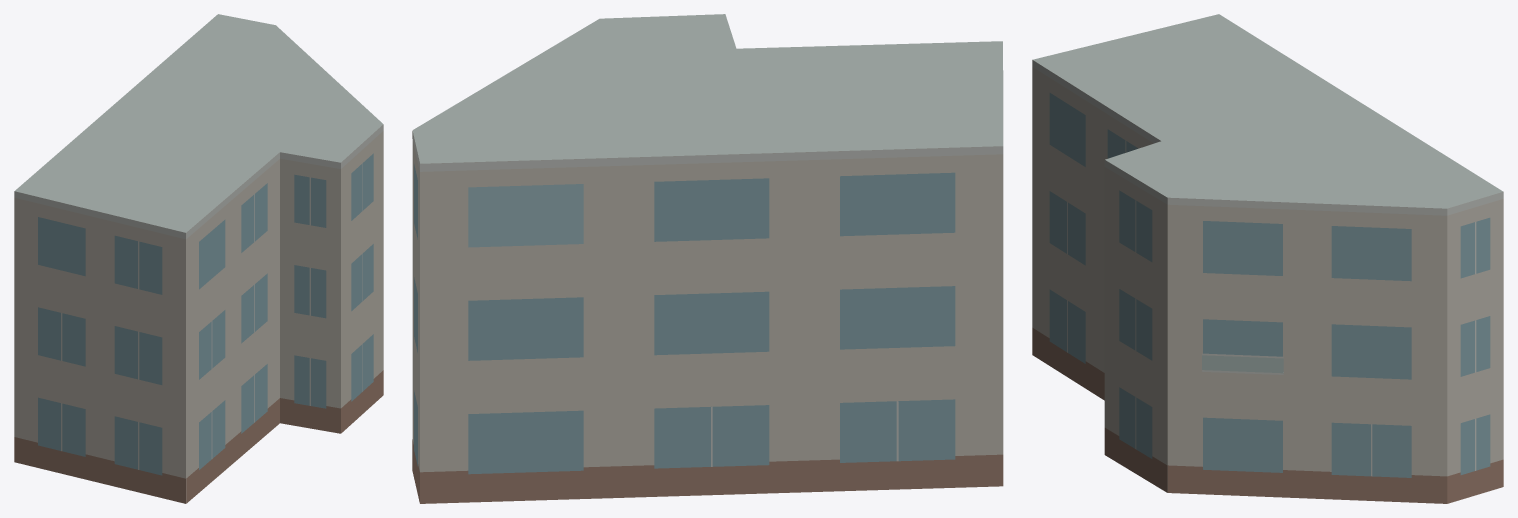
The model's file is survey-upis-33004549.glb.
The picture shows the model from 3 angles, left to right: view 1: azimuth 30°, elevation 25°; view 2: azimuth 150°, elevation 25°; view 3: azimuth 270°, elevation 25°; orthographic projection. The views are drawn at different scales.
Parts seen in each view (by area): view 1: survey-upis-33004549.tmp; view 2: survey-upis-33004549.tmp; view 3: survey-upis-33004549.tmp.
Boxes of the visible parts, x1,y1,x2,y2 form: survey-upis-33004549.tmp: (14,14,383,503); survey-upis-33004549.tmp: (412,14,1003,503); survey-upis-33004549.tmp: (1032,14,1503,503).
Bounding box in the file's own units: 14.43 × 10.2 × 14.76.
